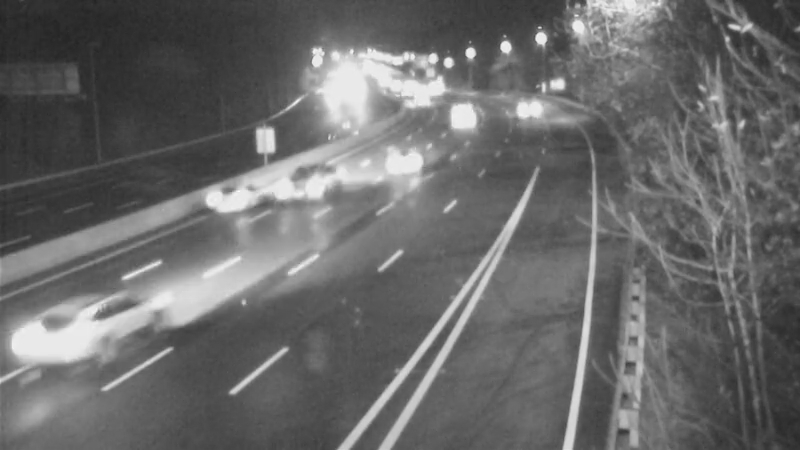vehicle: (1, 279, 110, 389), (369, 119, 449, 199), (269, 147, 349, 227), (186, 155, 266, 235), (395, 78, 445, 128), (437, 93, 487, 143), (500, 80, 550, 130)
